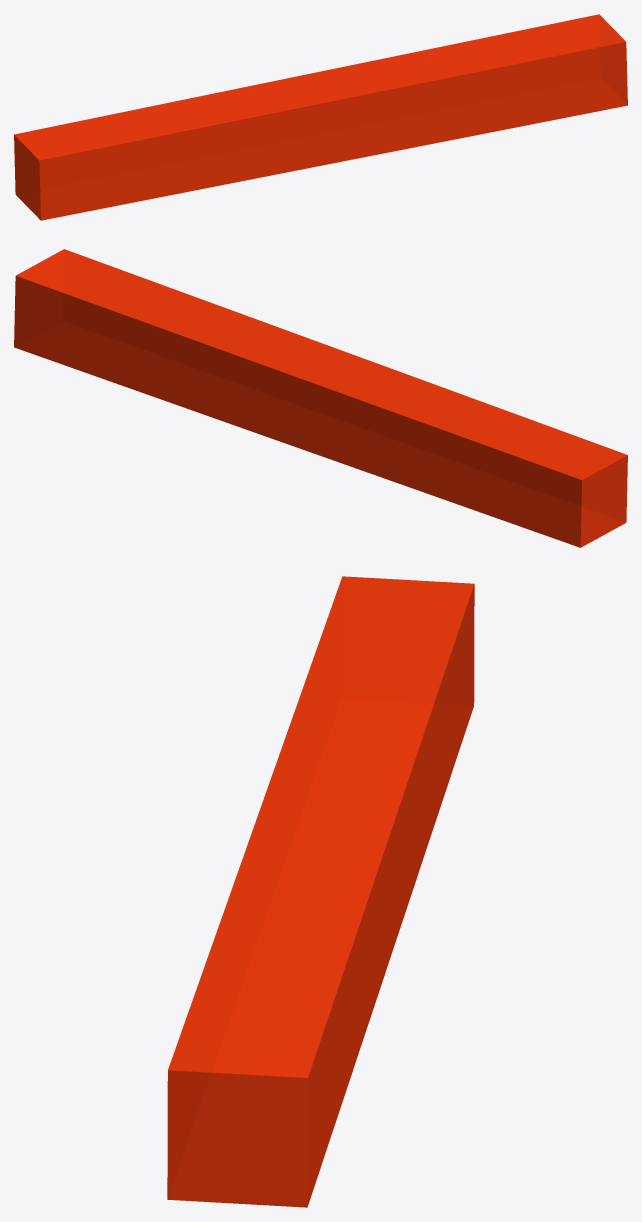
Rendered from Event_421278790_EErechit_41.fbx.
3 views of the same model, one above another, from view 1: azimuth 30°, elevation 25°; view 2: azimuth 150°, elevation 25°; view 3: azimuth 270°, elevation 25° (orthographic). The views are drawn at different scales.
Visible parts, largest first — view 1: Model; view 2: Model; view 3: Model.
Part boxes in pixels (x1,y1,x2,y2): Model: [14, 14, 627, 220]; Model: [14, 249, 627, 547]; Model: [167, 576, 474, 1207].
Size of the model in its own units: 0.6948 by 0.0943 by 0.1672.
